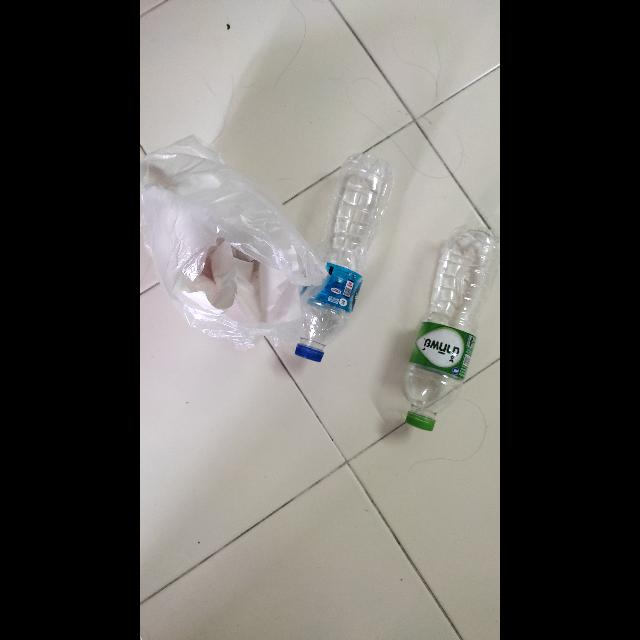plastic_bag: (142, 130, 330, 354)
plastic_bottle: (298, 146, 404, 368), (398, 221, 500, 431)
plastic_bottle_cap: (296, 343, 324, 363)
